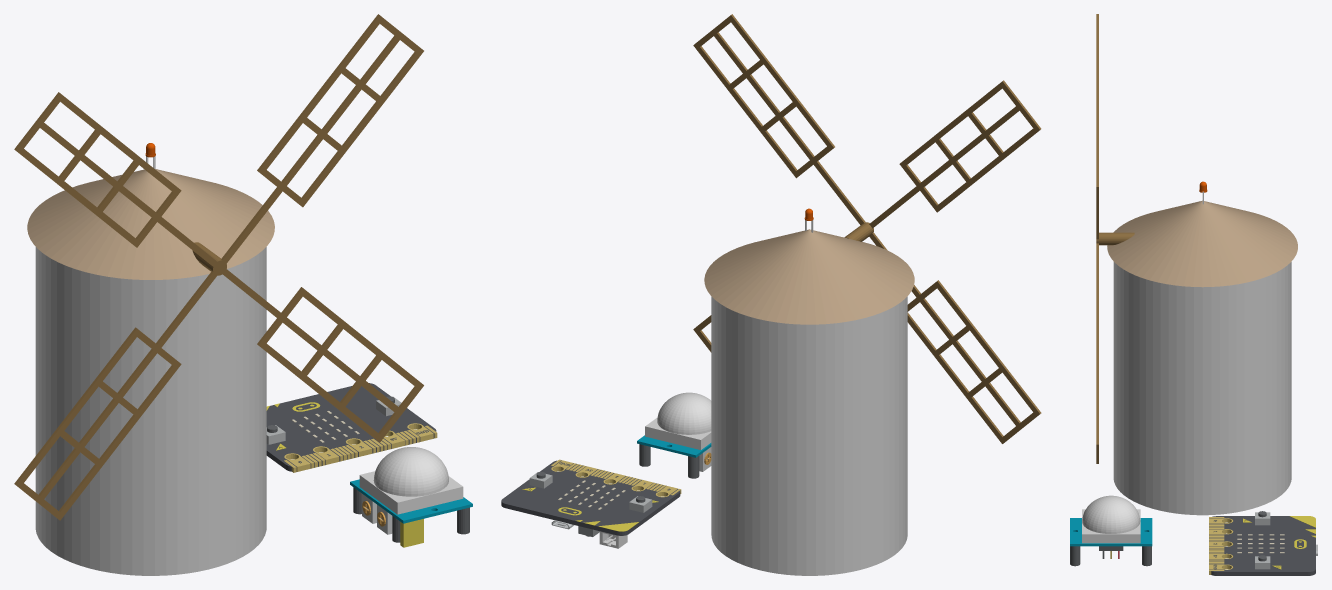
Rendered from Molino_micro_bit4.glb.
3 views of the same model, side by side, from view 1: azimuth 30°, elevation 25°; view 2: azimuth 150°, elevation 25°; view 3: azimuth 270°, elevation 25° (orthographic). The views are drawn at different scales.
Parts seen in each view (by area): view 1: Mesh_Mesh_head_geo.001_lambert2SG.001; view 2: Mesh_Mesh_head_geo.001_lambert2SG.001; view 3: Mesh_Mesh_head_geo.001_lambert2SG.001.
Part boxes in pixels (box(x1,y1,x2,y2)): Mesh_Mesh_head_geo.001_lambert2SG.001: box(14, 14, 472, 575); Mesh_Mesh_head_geo.001_lambert2SG.001: box(501, 14, 1041, 575); Mesh_Mesh_head_geo.001_lambert2SG.001: box(1070, 14, 1317, 575).
Size of the model in its own units: 174 by 175 by 97.3.
